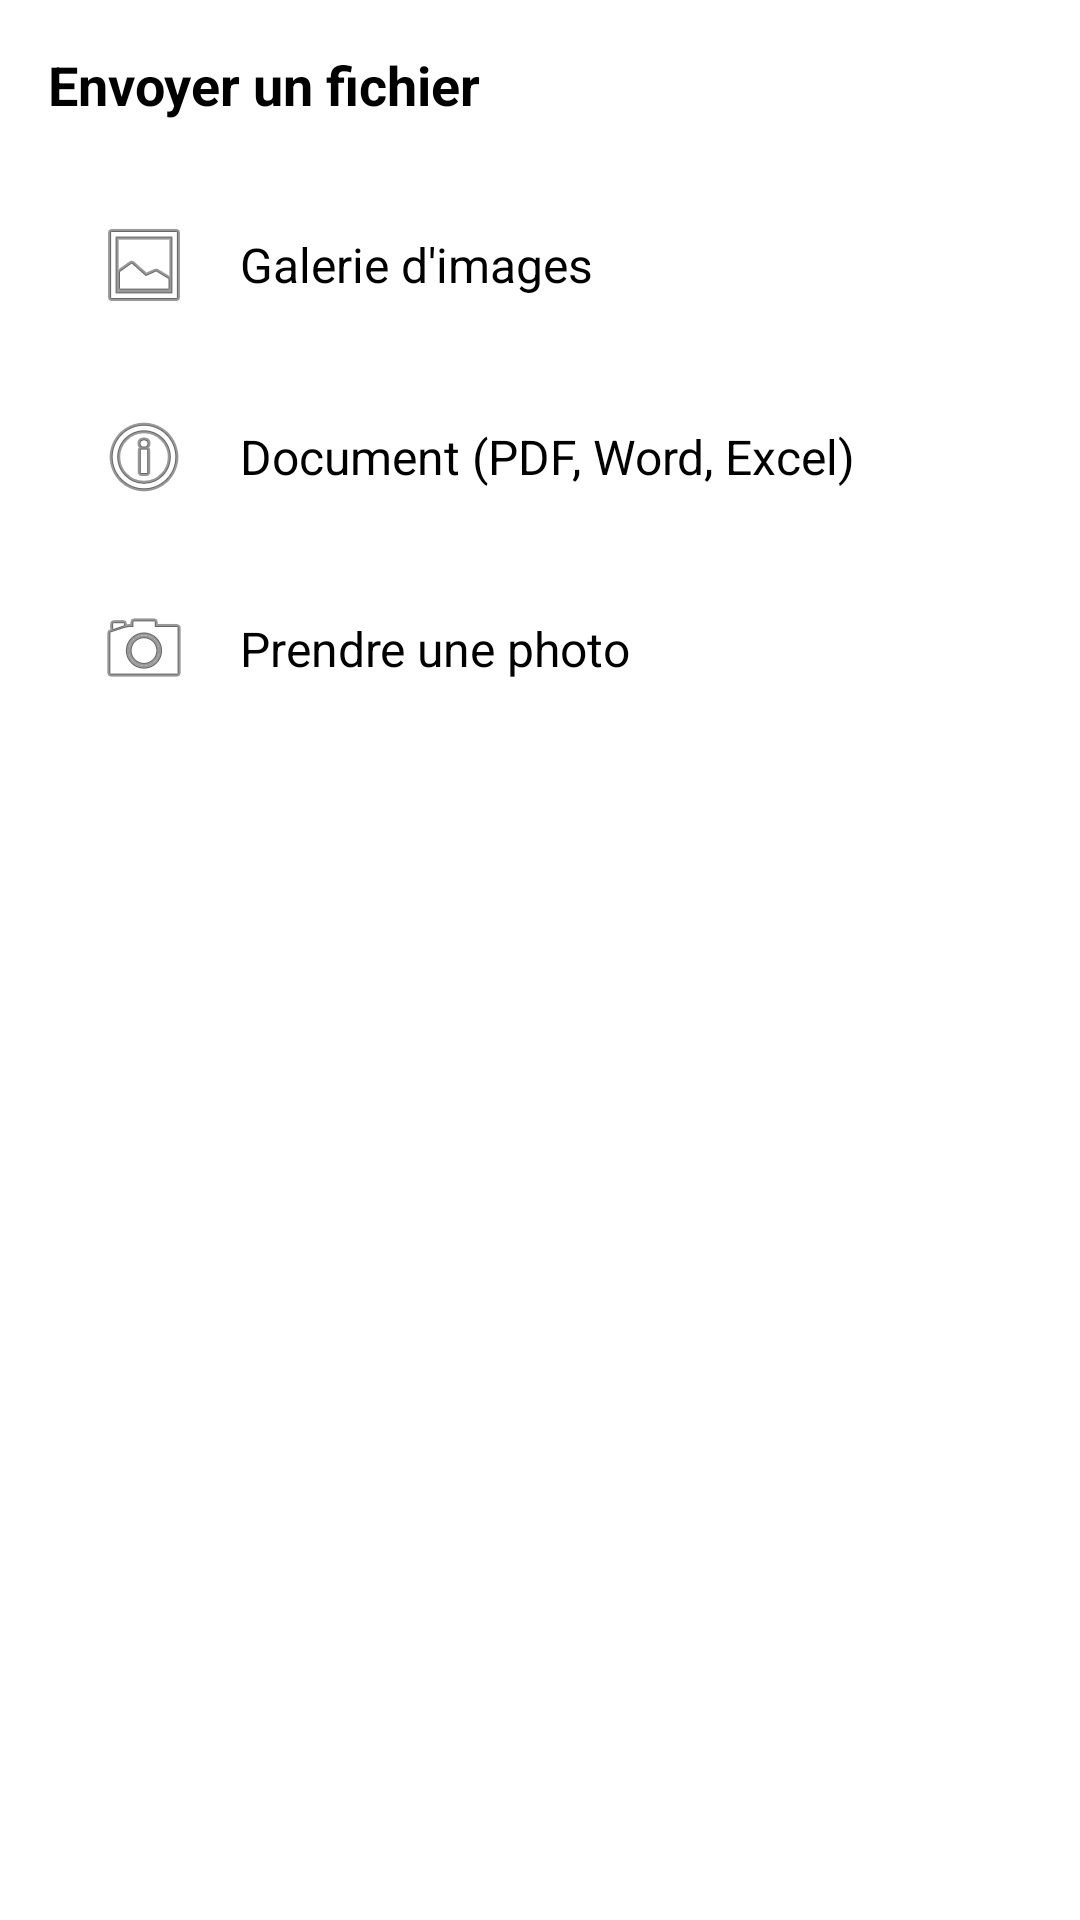

Icons on this 1080 x 1920 Android screen, each with its box as {"left": x1, "top": y1, "right": x2, "bottom": y2}:
Caméra: {"left": 107, "top": 618, "right": 181, "bottom": 677}
gallery: {"left": 108, "top": 229, "right": 180, "bottom": 301}
